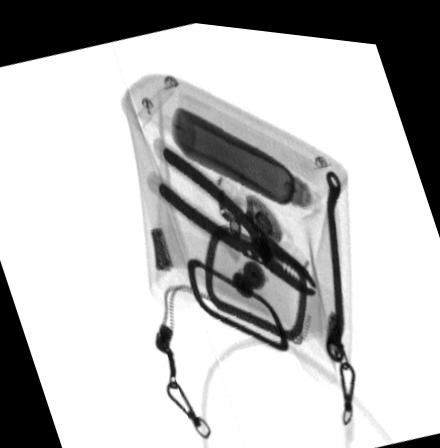Pliers: (155, 142, 315, 288)
Wrench: (325, 160, 345, 353)
